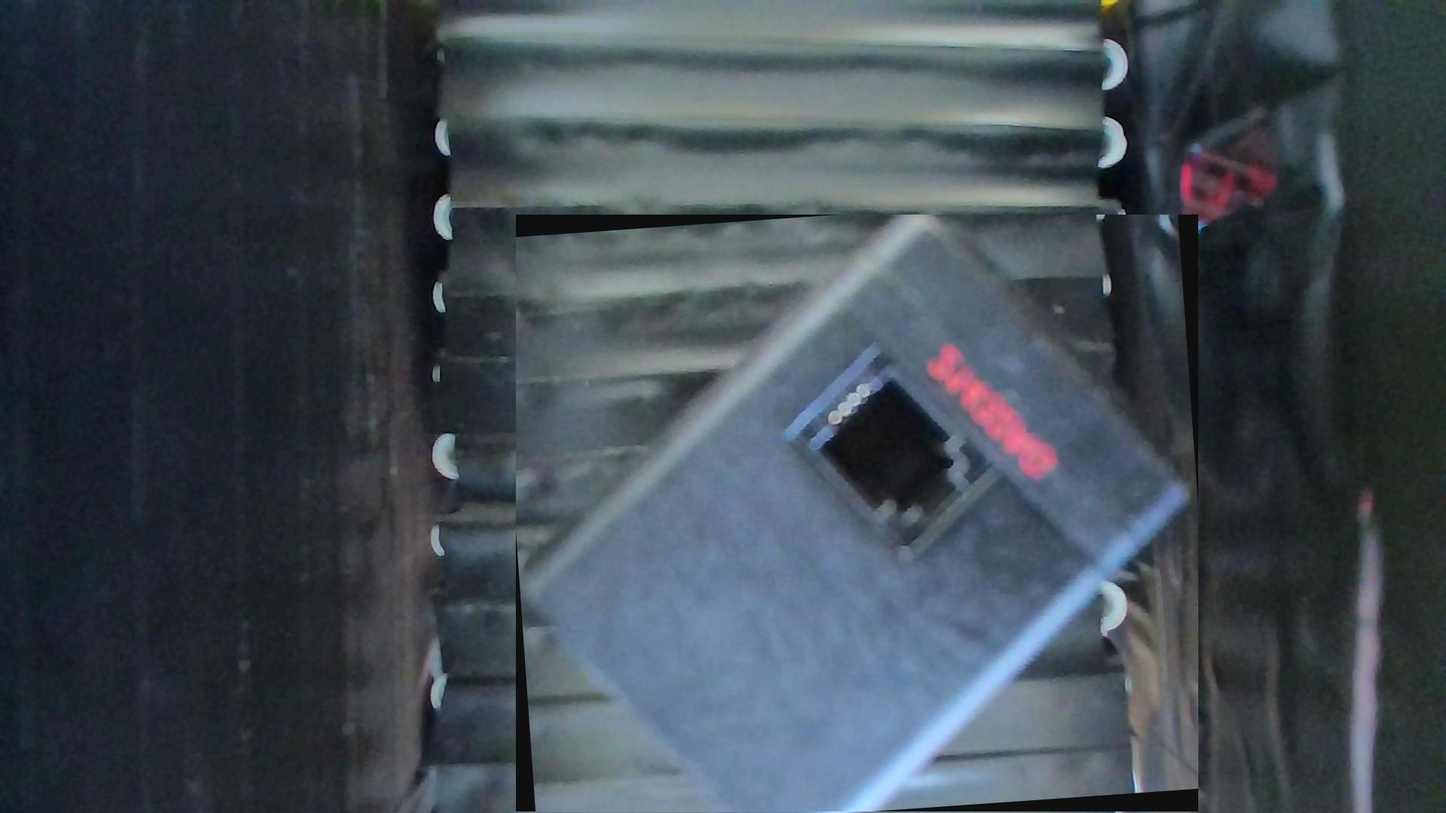motor: (516, 215, 1198, 813)
